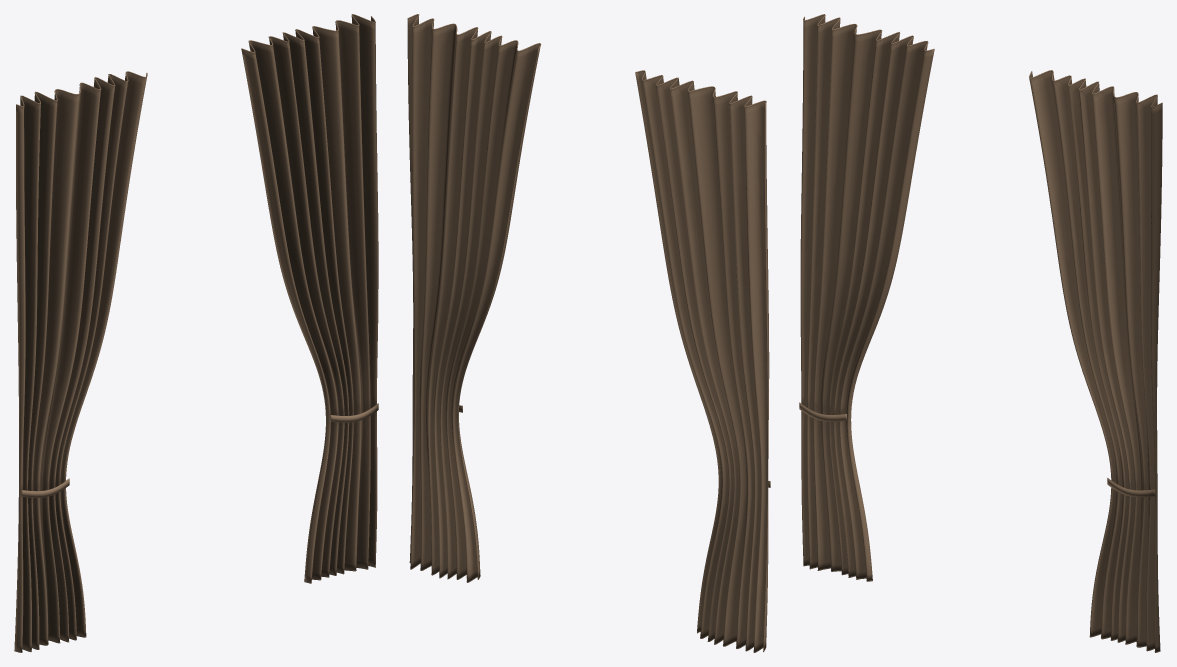
Rendered from curtains-refined.glb.
3 views of the same model, side by side, from view 1: azimuth 30°, elevation 25°; view 2: azimuth 150°, elevation 25°; view 3: azimuth 330°, elevation 25° (orthographic).
Parts seen in each view (by area): view 1: Refined living taupe drapes / Refined taupe woven textile; view 2: Refined living taupe drapes / Refined taupe woven textile; view 3: Refined living taupe drapes / Refined taupe woven textile.
Boxes of the visible parts, left/top/right/bottom form: Refined living taupe drapes / Refined taupe woven textile: left=14, top=14, right=378, bottom=652; Refined living taupe drapes / Refined taupe woven textile: left=407, top=14, right=770, bottom=652; Refined living taupe drapes / Refined taupe woven textile: left=799, top=14, right=1162, bottom=652.
Bounding box in the file's own units: 1.78 × 2.62 × 0.1485.
